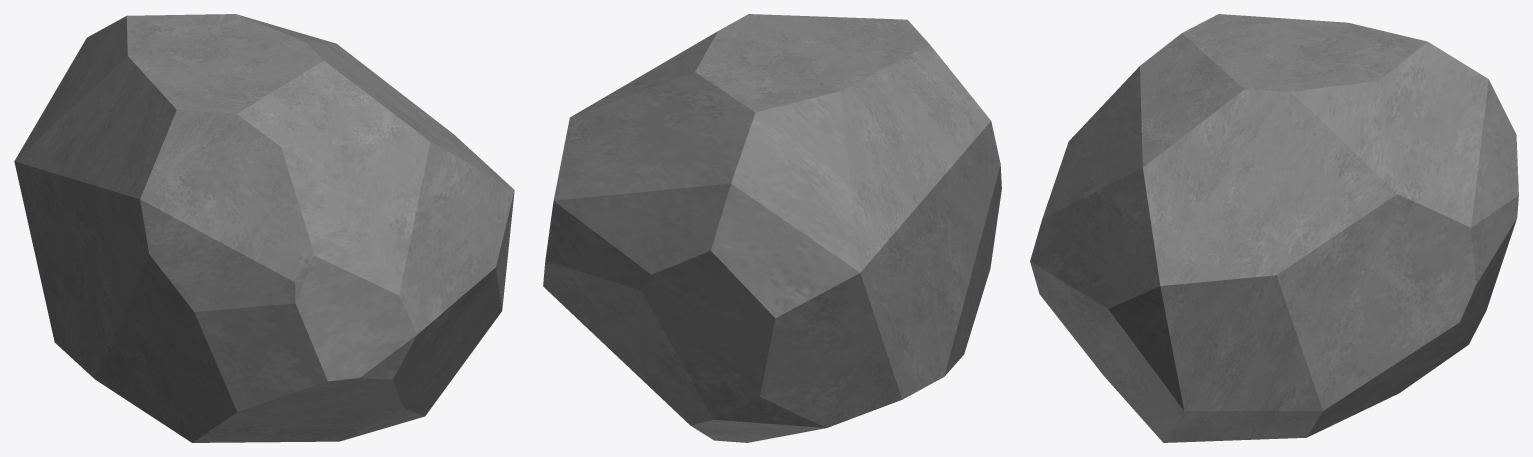
File: Rock_6.fbx
The picture shows the model from 3 angles, left to right: view 1: azimuth 30°, elevation 25°; view 2: azimuth 150°, elevation 25°; view 3: azimuth 270°, elevation 25°; orthographic projection. The views are drawn at different scales.
Visible parts, largest first — view 1: Rock.012; view 2: Rock.012; view 3: Rock.012.
Part boxes in pixels (bbox=[...]): Rock.012: bbox=[14, 14, 514, 442]; Rock.012: bbox=[543, 14, 1001, 442]; Rock.012: bbox=[1030, 14, 1518, 442].
Size of the model in its own units: 126 by 118 by 156.
